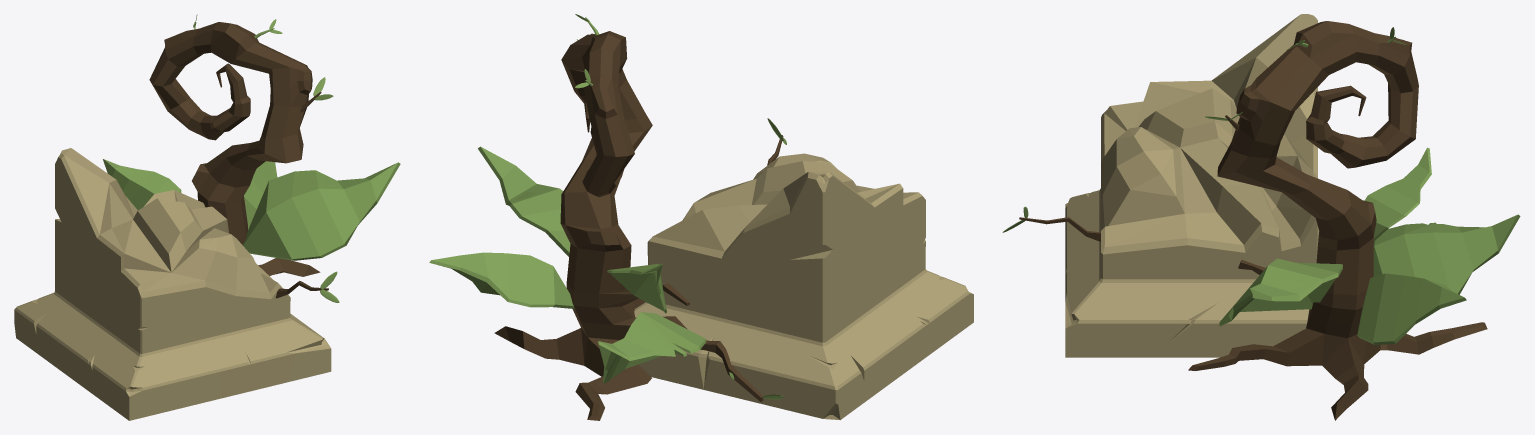
Rendered from monuments.fbx.
3 views of the same model, side by side, from view 1: azimuth 30°, elevation 25°; view 2: azimuth 150°, elevation 25°; view 3: azimuth 270°, elevation 25° (orthographic). The views are drawn at different scales.
Visible parts, largest first — view 1: polySurface2; view 2: polySurface2; view 3: polySurface2.
Part boxes in pixels (<box>): polySurface2: <box>14,14,400,420</box>; polySurface2: <box>429,14,973,420</box>; polySurface2: <box>1002,14,1520,420</box>.
Size of the model in its own units: 37.9 by 28.86 by 39.23.
